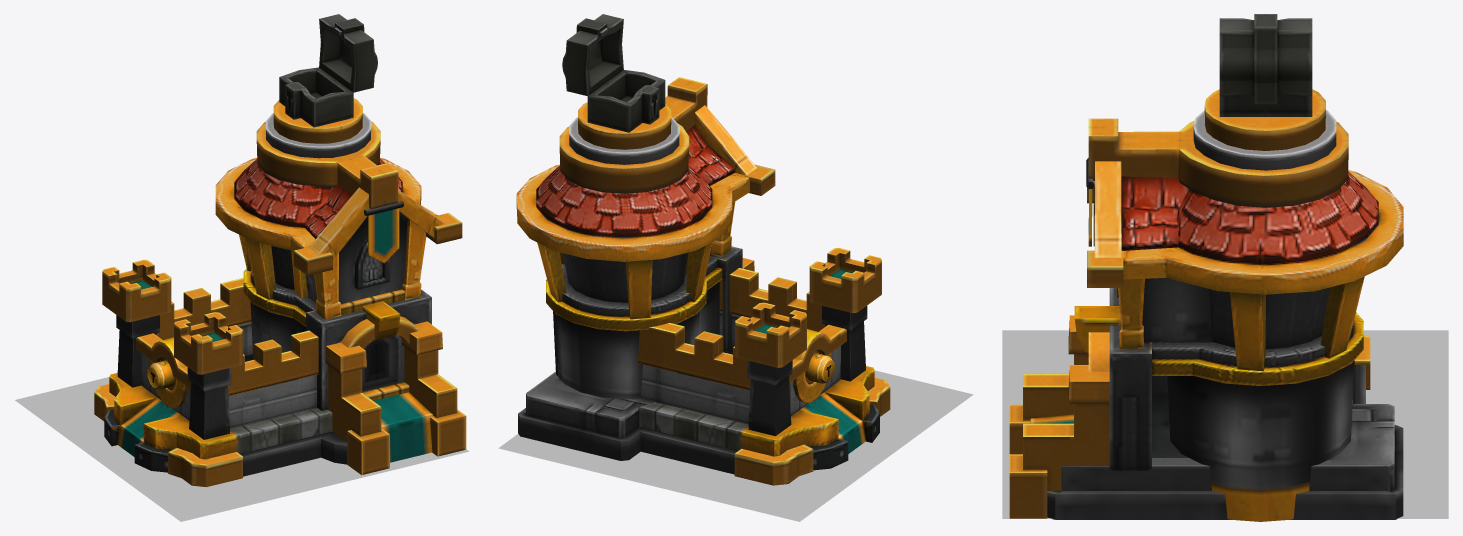
File: C_Treasury_LV7.fbx
The picture shows the model from 3 angles, left to right: view 1: azimuth 30°, elevation 25°; view 2: azimuth 150°, elevation 25°; view 3: azimuth 270°, elevation 25°; orthographic projection. The views are drawn at different scales.
Visible parts, largest first — view 1: LV07_0_mesh, LV07_1_mesh; view 2: LV07_0_mesh, LV07_1_mesh; view 3: LV07_0_mesh, LV07_1_mesh.
Part boxes in pixels (x1,y1,x2,y2): LV07_0_mesh: (94, 14, 466, 487); LV07_1_mesh: (15, 377, 468, 521); LV07_0_mesh: (516, 14, 890, 485); LV07_1_mesh: (498, 370, 973, 521); LV07_0_mesh: (1009, 14, 1403, 521); LV07_1_mesh: (1002, 330, 1448, 518).
Bounding box in the file's own units: 136 × 144 × 120.
